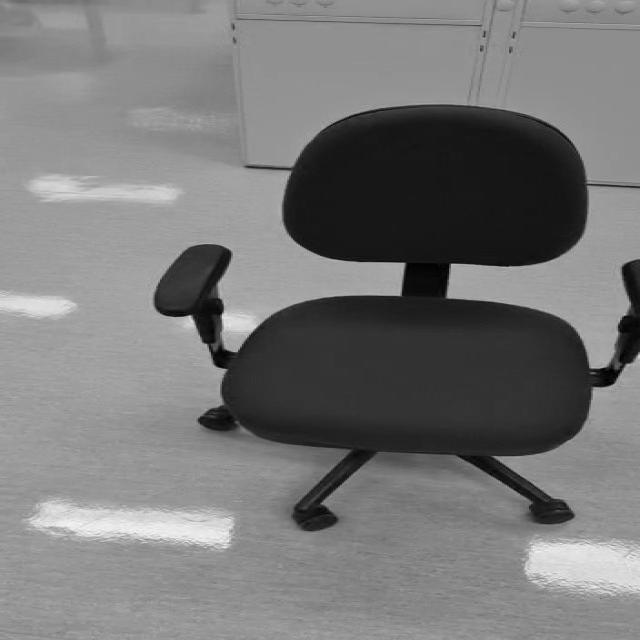cadeira-azul: (152, 104, 640, 532)
